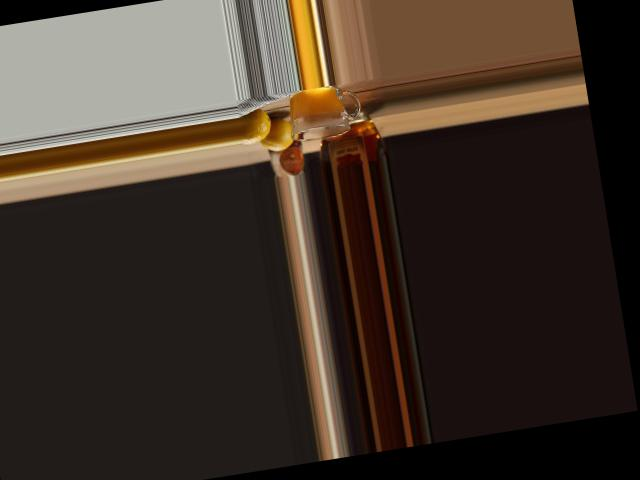lemon: (239, 109, 269, 141)
